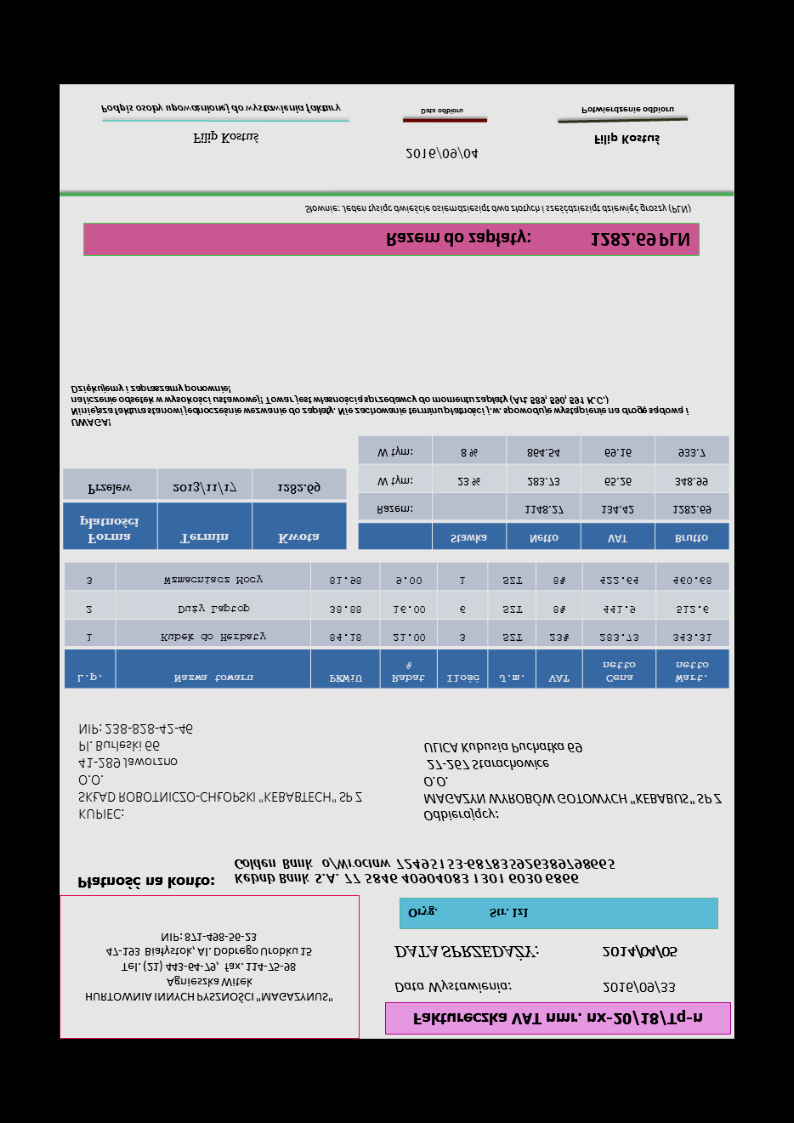Table: (63, 559, 731, 692), (356, 433, 731, 552), (61, 467, 347, 551)
TextBox: (67, 382, 692, 432), (75, 718, 365, 825), (421, 737, 726, 825), (80, 928, 335, 1005), (230, 854, 618, 887), (383, 227, 693, 253), (300, 202, 692, 219), (408, 1008, 705, 1028), (98, 100, 346, 116), (391, 941, 540, 964), (71, 872, 216, 893), (403, 903, 530, 924), (389, 978, 513, 999), (598, 942, 680, 963), (403, 145, 482, 166), (590, 132, 666, 150), (189, 129, 260, 148), (599, 979, 678, 995), (579, 104, 676, 117), (415, 105, 468, 119)
